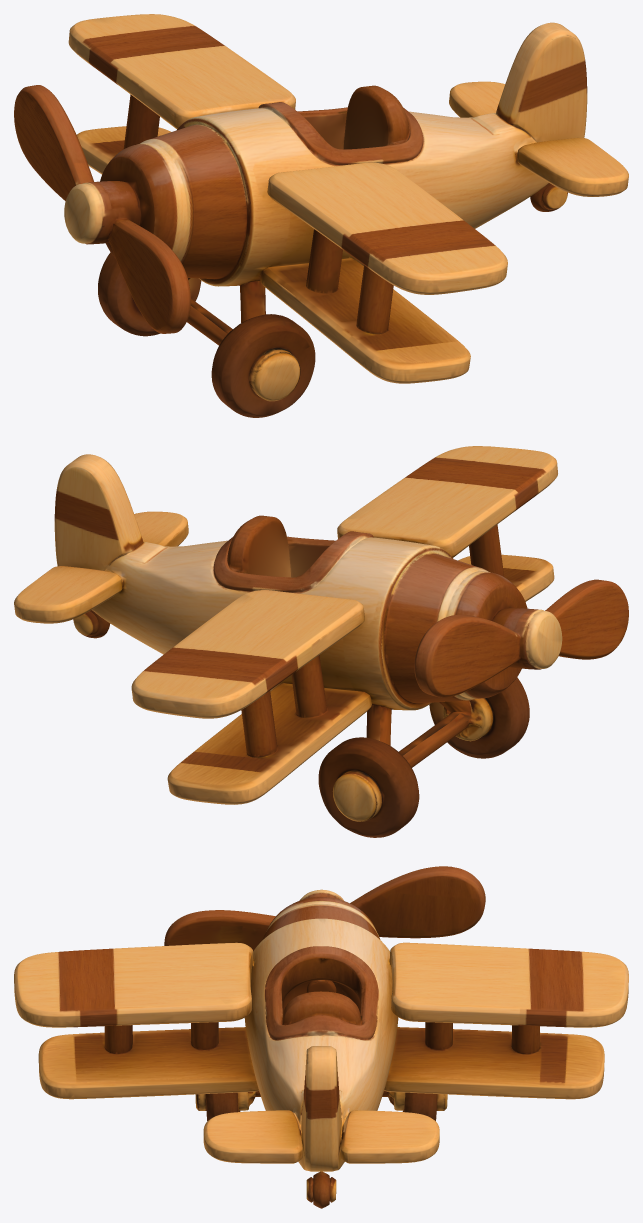
Rendered from woodAiroplane.fbx.
3 views of the same model, one above another, from view 1: azimuth 30°, elevation 25°; view 2: azimuth 150°, elevation 25°; view 3: azimuth 270°, elevation 25° (orthographic). The views are drawn at different scales.
Parts seen in each view (by area): view 1: node_0; view 2: node_0; view 3: node_0.
Boxes of the visible parts, bbox=[...] form: node_0: bbox=[14, 14, 628, 417]; node_0: bbox=[14, 446, 628, 837]; node_0: bbox=[14, 866, 628, 1208].
Size of the model in its own units: 94.65 by 46.53 by 114.
Materials: 1 (1 with a texture image).
